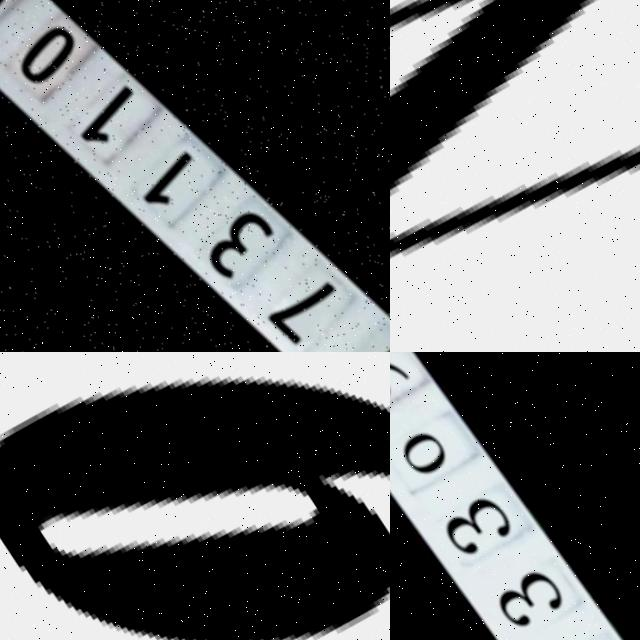0: (0, 0, 105, 113), (390, 405, 468, 496)
1: (46, 59, 172, 180), (111, 126, 227, 237)
2: (517, 614, 633, 640)
3: (170, 180, 299, 304), (416, 470, 526, 574), (469, 545, 575, 640)
7: (235, 242, 361, 352), (296, 298, 390, 352)
9: (0, 352, 390, 640), (390, 352, 425, 427)
N: (390, 0, 640, 352)
